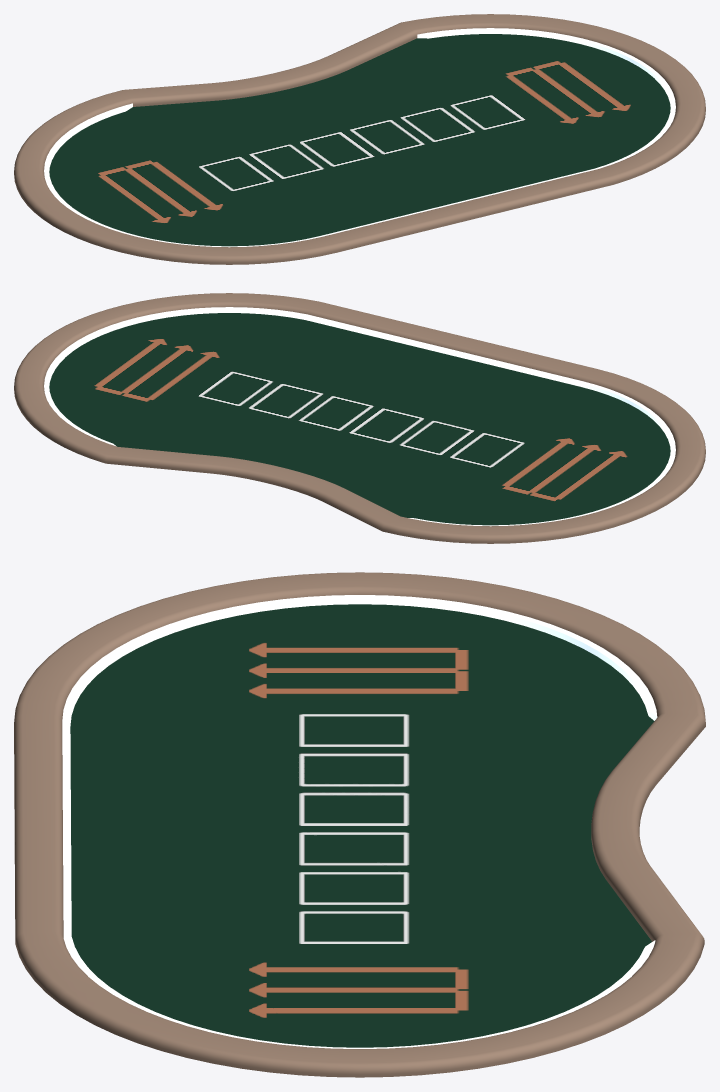
Rendered from 5-cricket.glb.
The picture shows the model from 3 angles, top to bottom: view 1: azimuth 30°, elevation 25°; view 2: azimuth 150°, elevation 25°; view 3: azimuth 270°, elevation 25°; orthographic projection. The views are drawn at different scales.
Visible parts, largest first — view 1: Circle.095; view 2: Circle.095; view 3: Circle.095.
Part boxes in pixels (left/top/right/bottom): Circle.095: left=14, top=14, right=705, bottom=264; Circle.095: left=14, top=293, right=705, bottom=543; Circle.095: left=14, top=572, right=705, bottom=1077.
Size of the model in its own units: 6.8 by 0.0693 by 4.
Materials: 3 (1 with a texture image).
